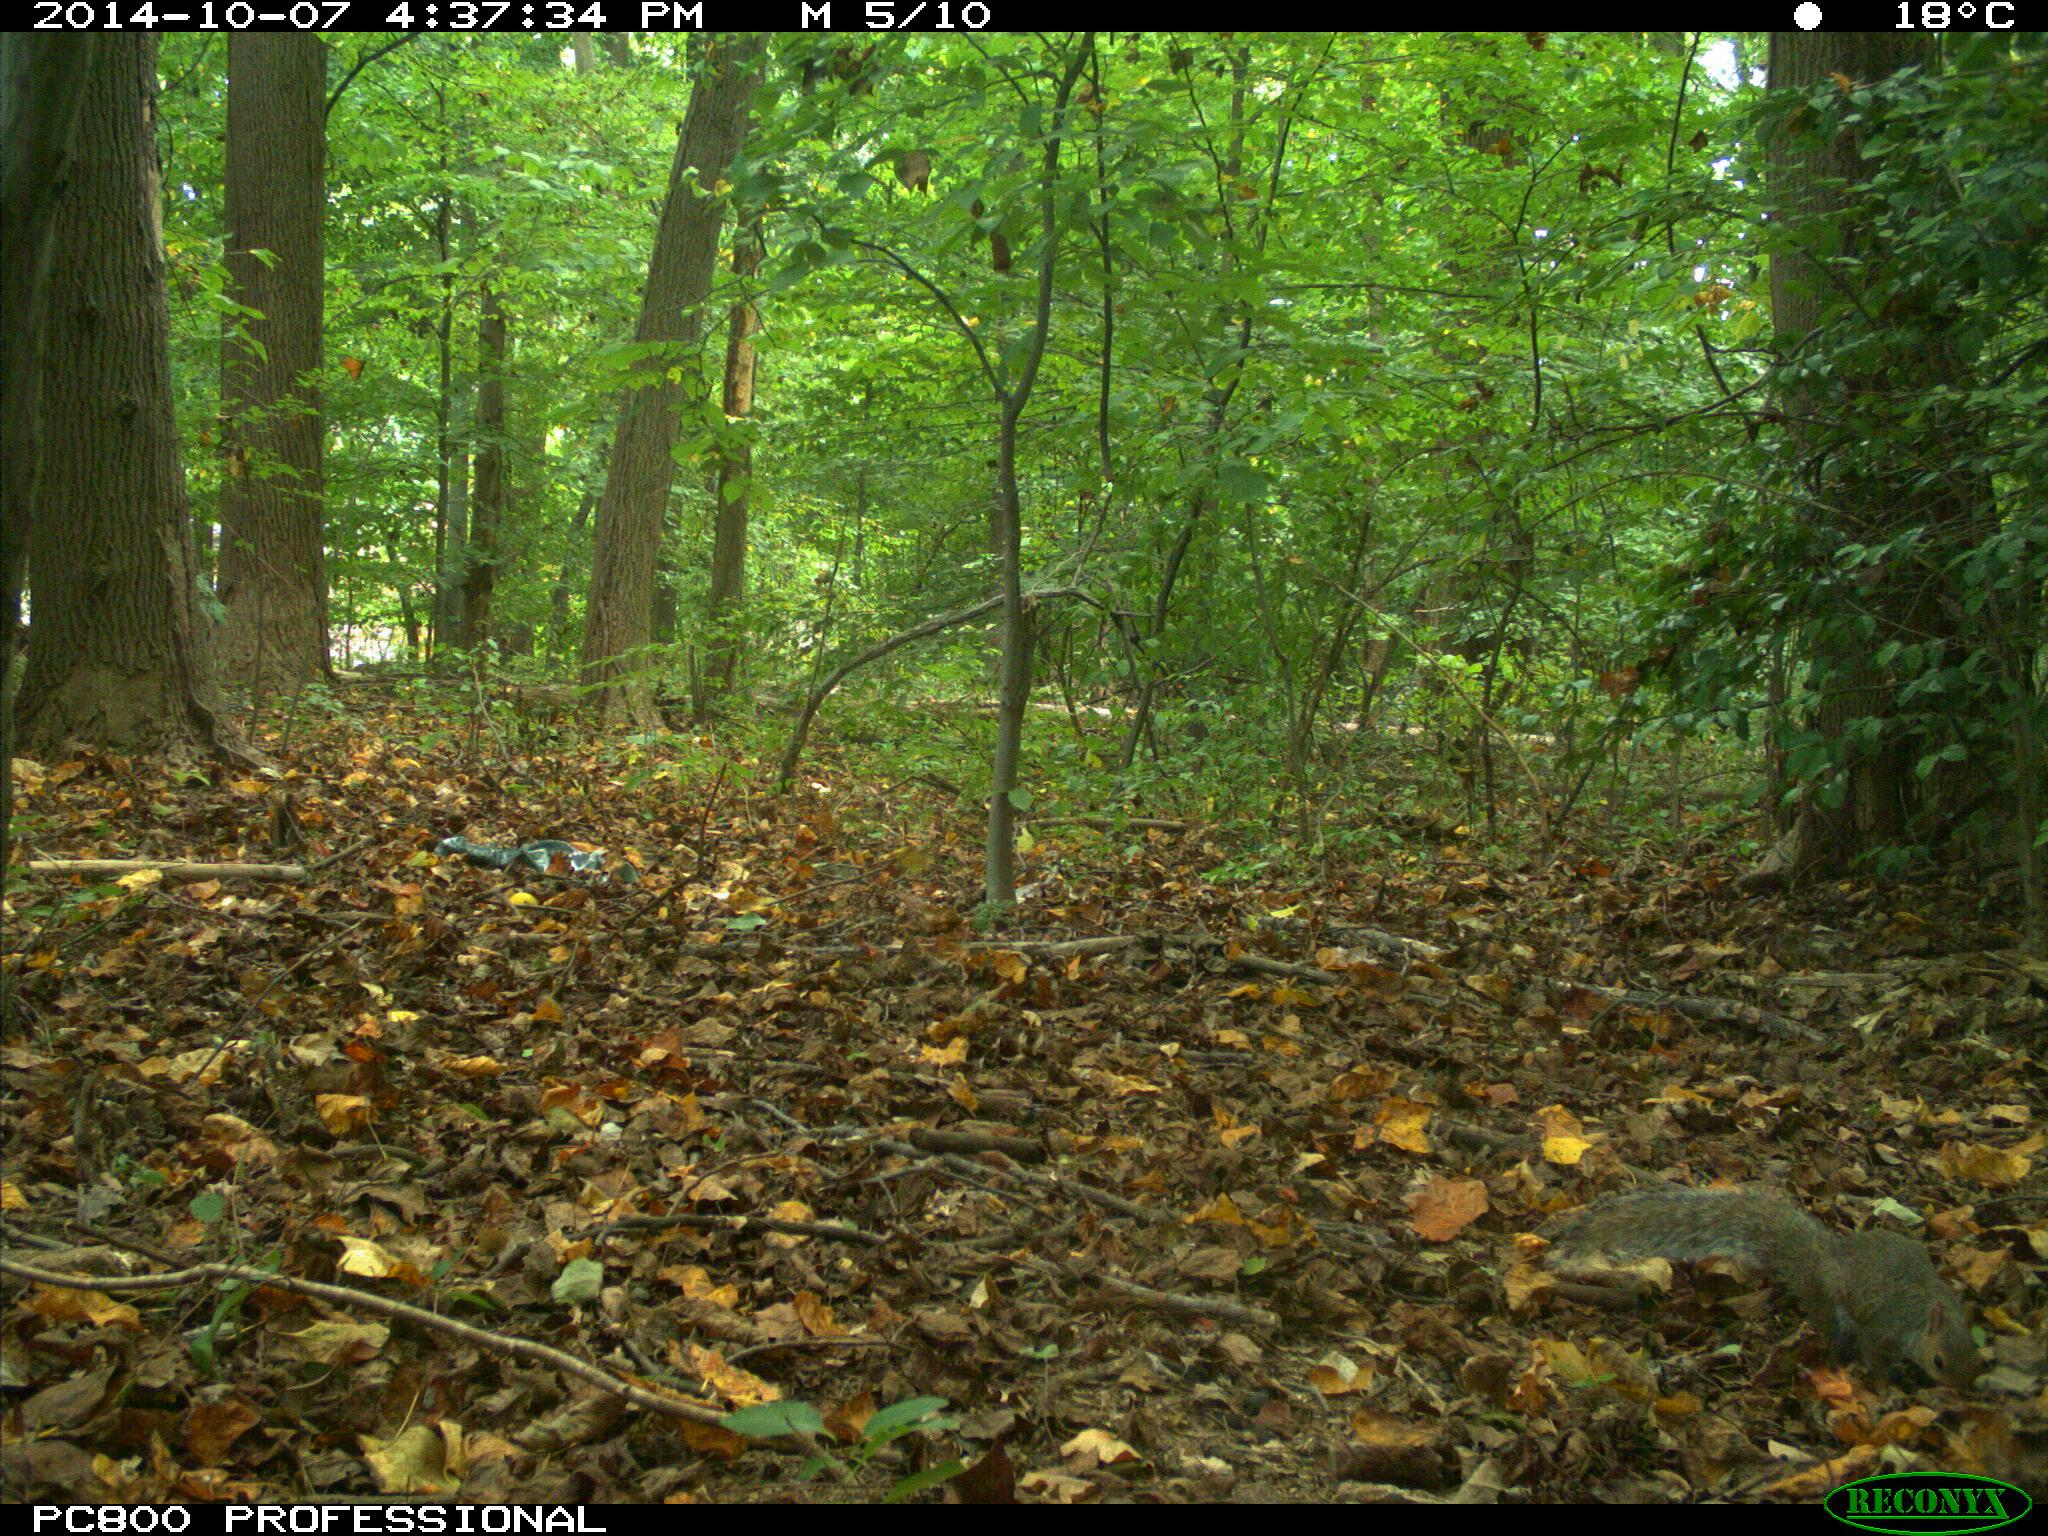Animal: (1566, 1192, 1980, 1396)
